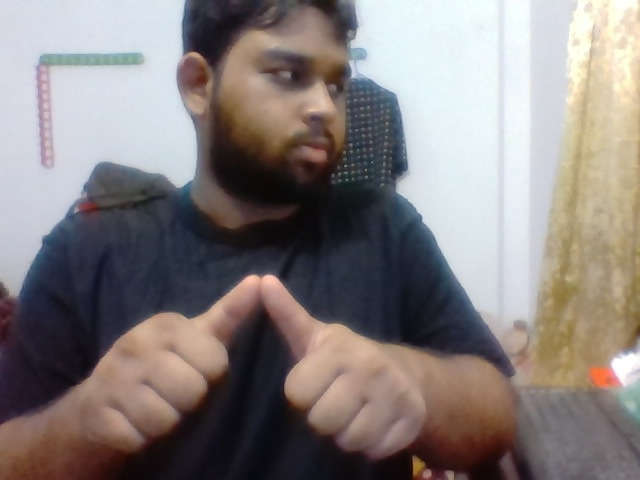A: (70, 264, 443, 464)
